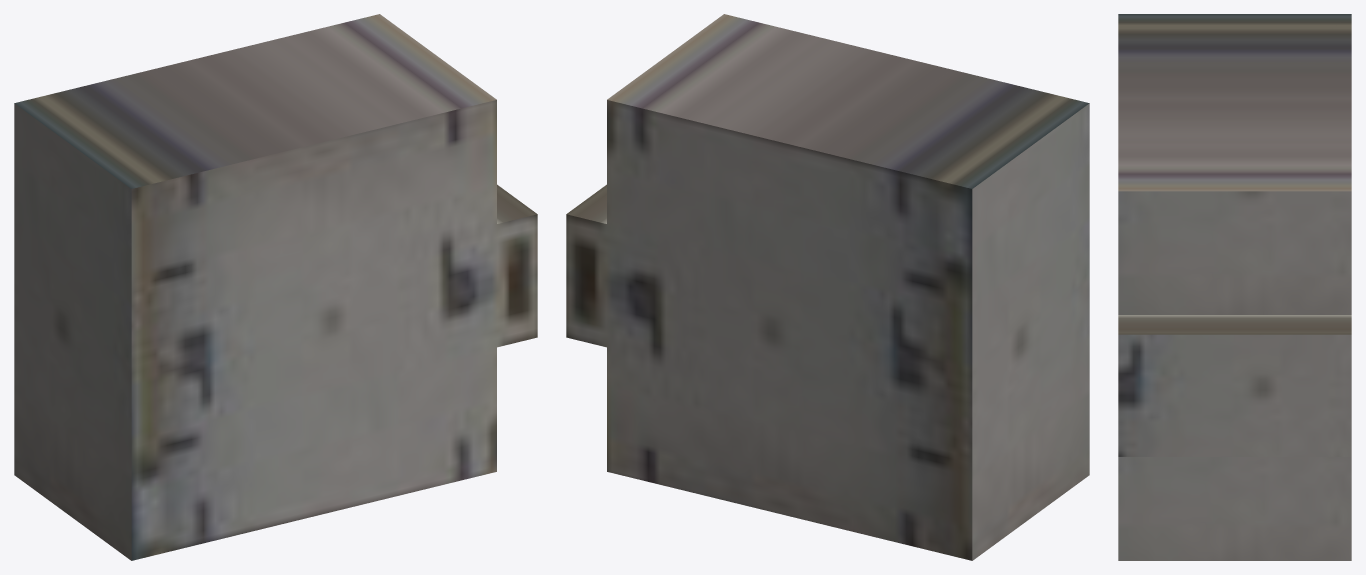
The model's file is s4_truss_23_battery_mid_left.dae.
3 views of the same model, side by side, from view 1: azimuth 30°, elevation 25°; view 2: azimuth 150°, elevation 25°; view 3: azimuth 270°, elevation 25° (orthographic).
Visible parts, largest first — view 1: 23 S4 Truss; view 2: 23 S4 Truss; view 3: 23 S4 Truss.
Boxes of the visible parts, box(x1,y1,x2,y2) form: 23 S4 Truss: box(14, 14, 537, 560); 23 S4 Truss: box(566, 14, 1089, 560); 23 S4 Truss: box(1118, 14, 1351, 560).
Bounding box in the file's own units: 1.05 × 0.5252 × 0.9191.
Materials: 2 (2 with a texture image).
